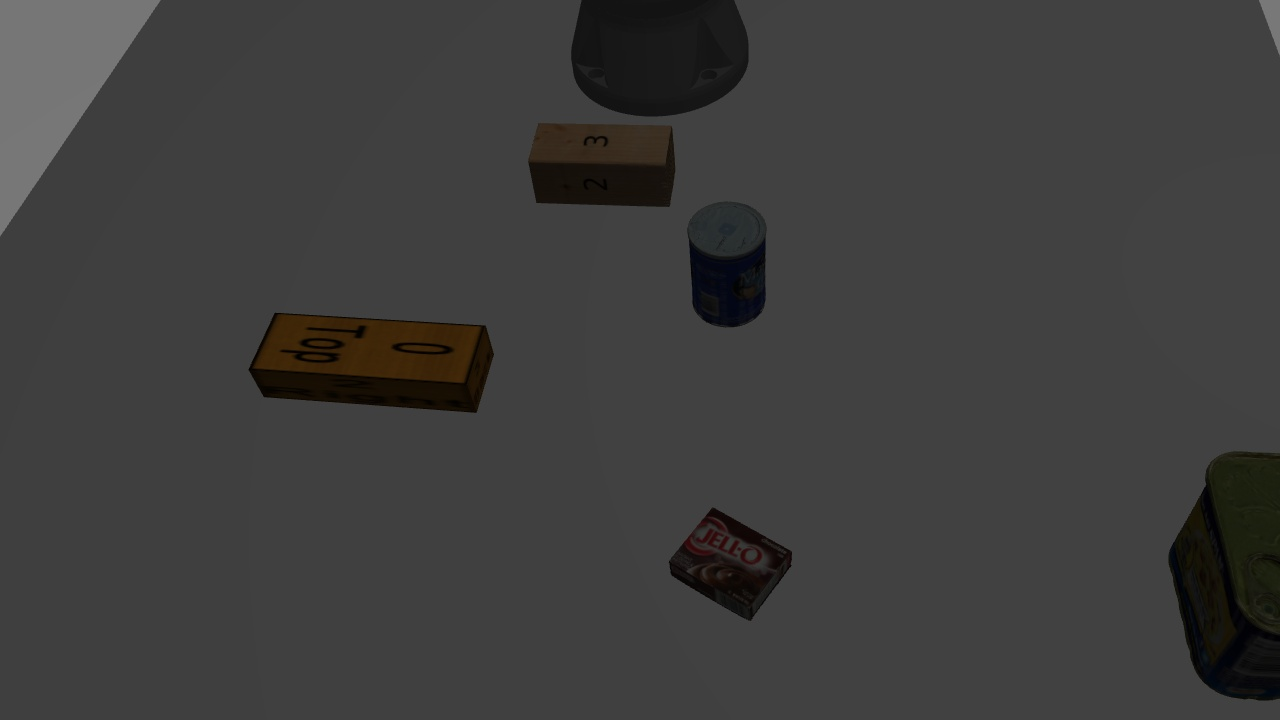jenga: (247, 293, 495, 421)
master_chef_can: (686, 193, 772, 330)
potted_meat_can: (1163, 441, 1276, 708), (681, 194, 714, 218)
pudding_box: (667, 503, 792, 624)
wood_block: (527, 112, 677, 216)
